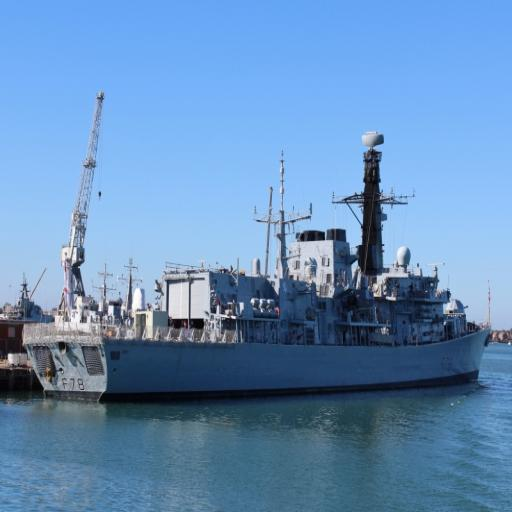Fragata: (20, 126, 497, 408)
